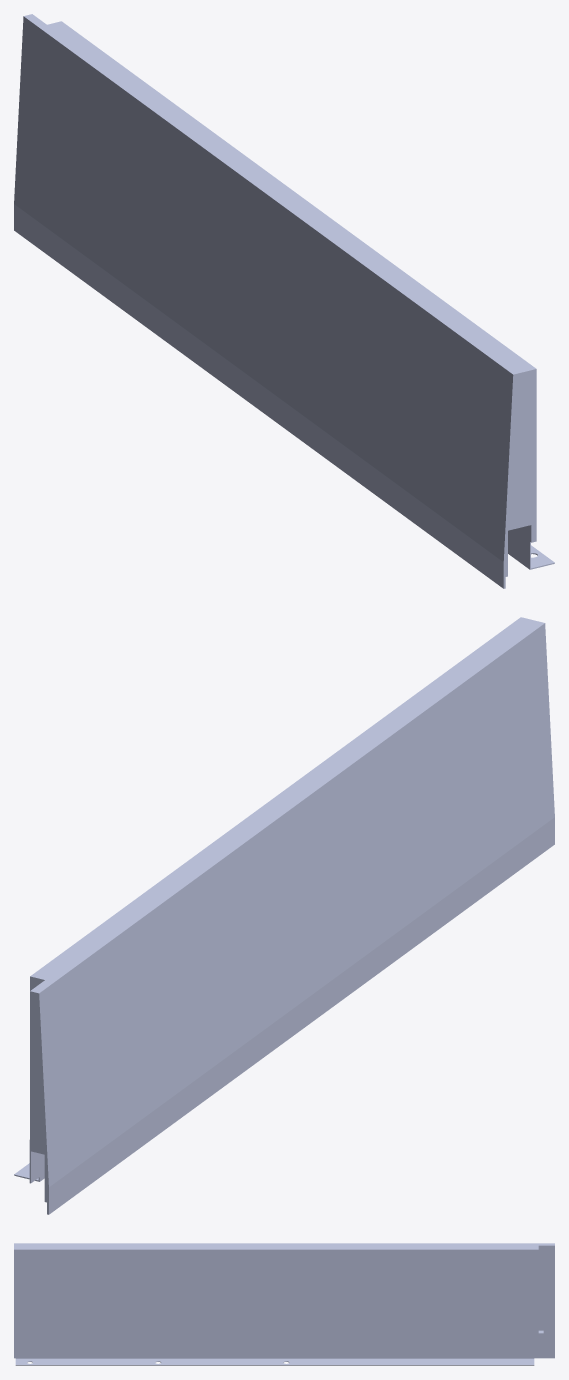
File: mv-kava-K550-p.glb
3 renders of one model, top to bottom at view 1: azimuth 30°, elevation 25°; view 2: azimuth 150°, elevation 25°; view 3: azimuth 270°, elevation 25°, orthographic. The views are drawn at different scales.
Visible parts, largest first — view 1: 45874967; view 2: 45874967; view 3: 45874967.
Boxes of the visible parts, x1,y1,x2,y2 form: 45874967: (14, 14, 554, 588); 45874967: (14, 617, 554, 1214); 45874967: (14, 1243, 554, 1365).
Size of the model in its own units: 0.0335 by 0.129 by 0.5402.
